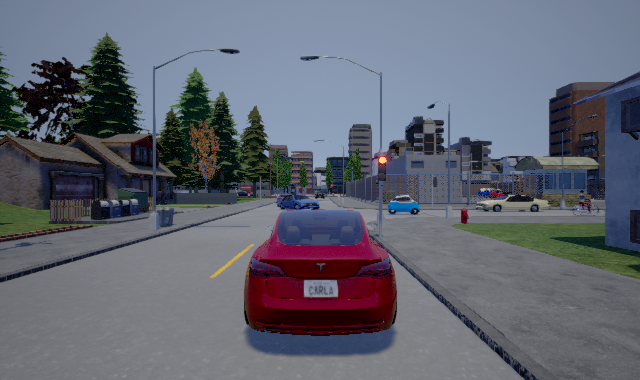bike: (572, 190, 600, 217)
traffic_light: (378, 151, 386, 186)
vehicle: (243, 207, 397, 336), (475, 188, 550, 212), (276, 193, 321, 212), (388, 195, 421, 215)
